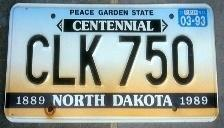0: (171, 33, 195, 85)
5: (144, 34, 169, 86)
7: (115, 34, 143, 88)
C: (24, 32, 51, 86)
K: (76, 33, 104, 86)
L: (51, 34, 77, 86)
